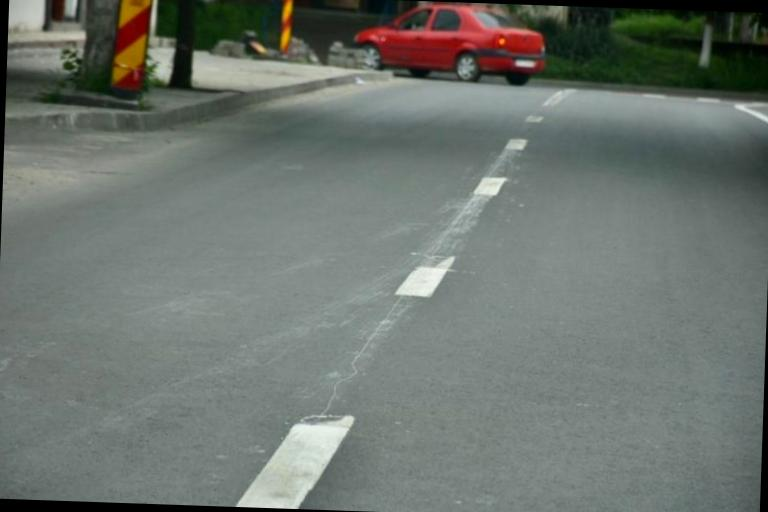faded_road_lines: (226, 408, 360, 512), (390, 250, 458, 301), (467, 174, 512, 202), (543, 88, 577, 110), (502, 136, 530, 156), (525, 116, 545, 128)
